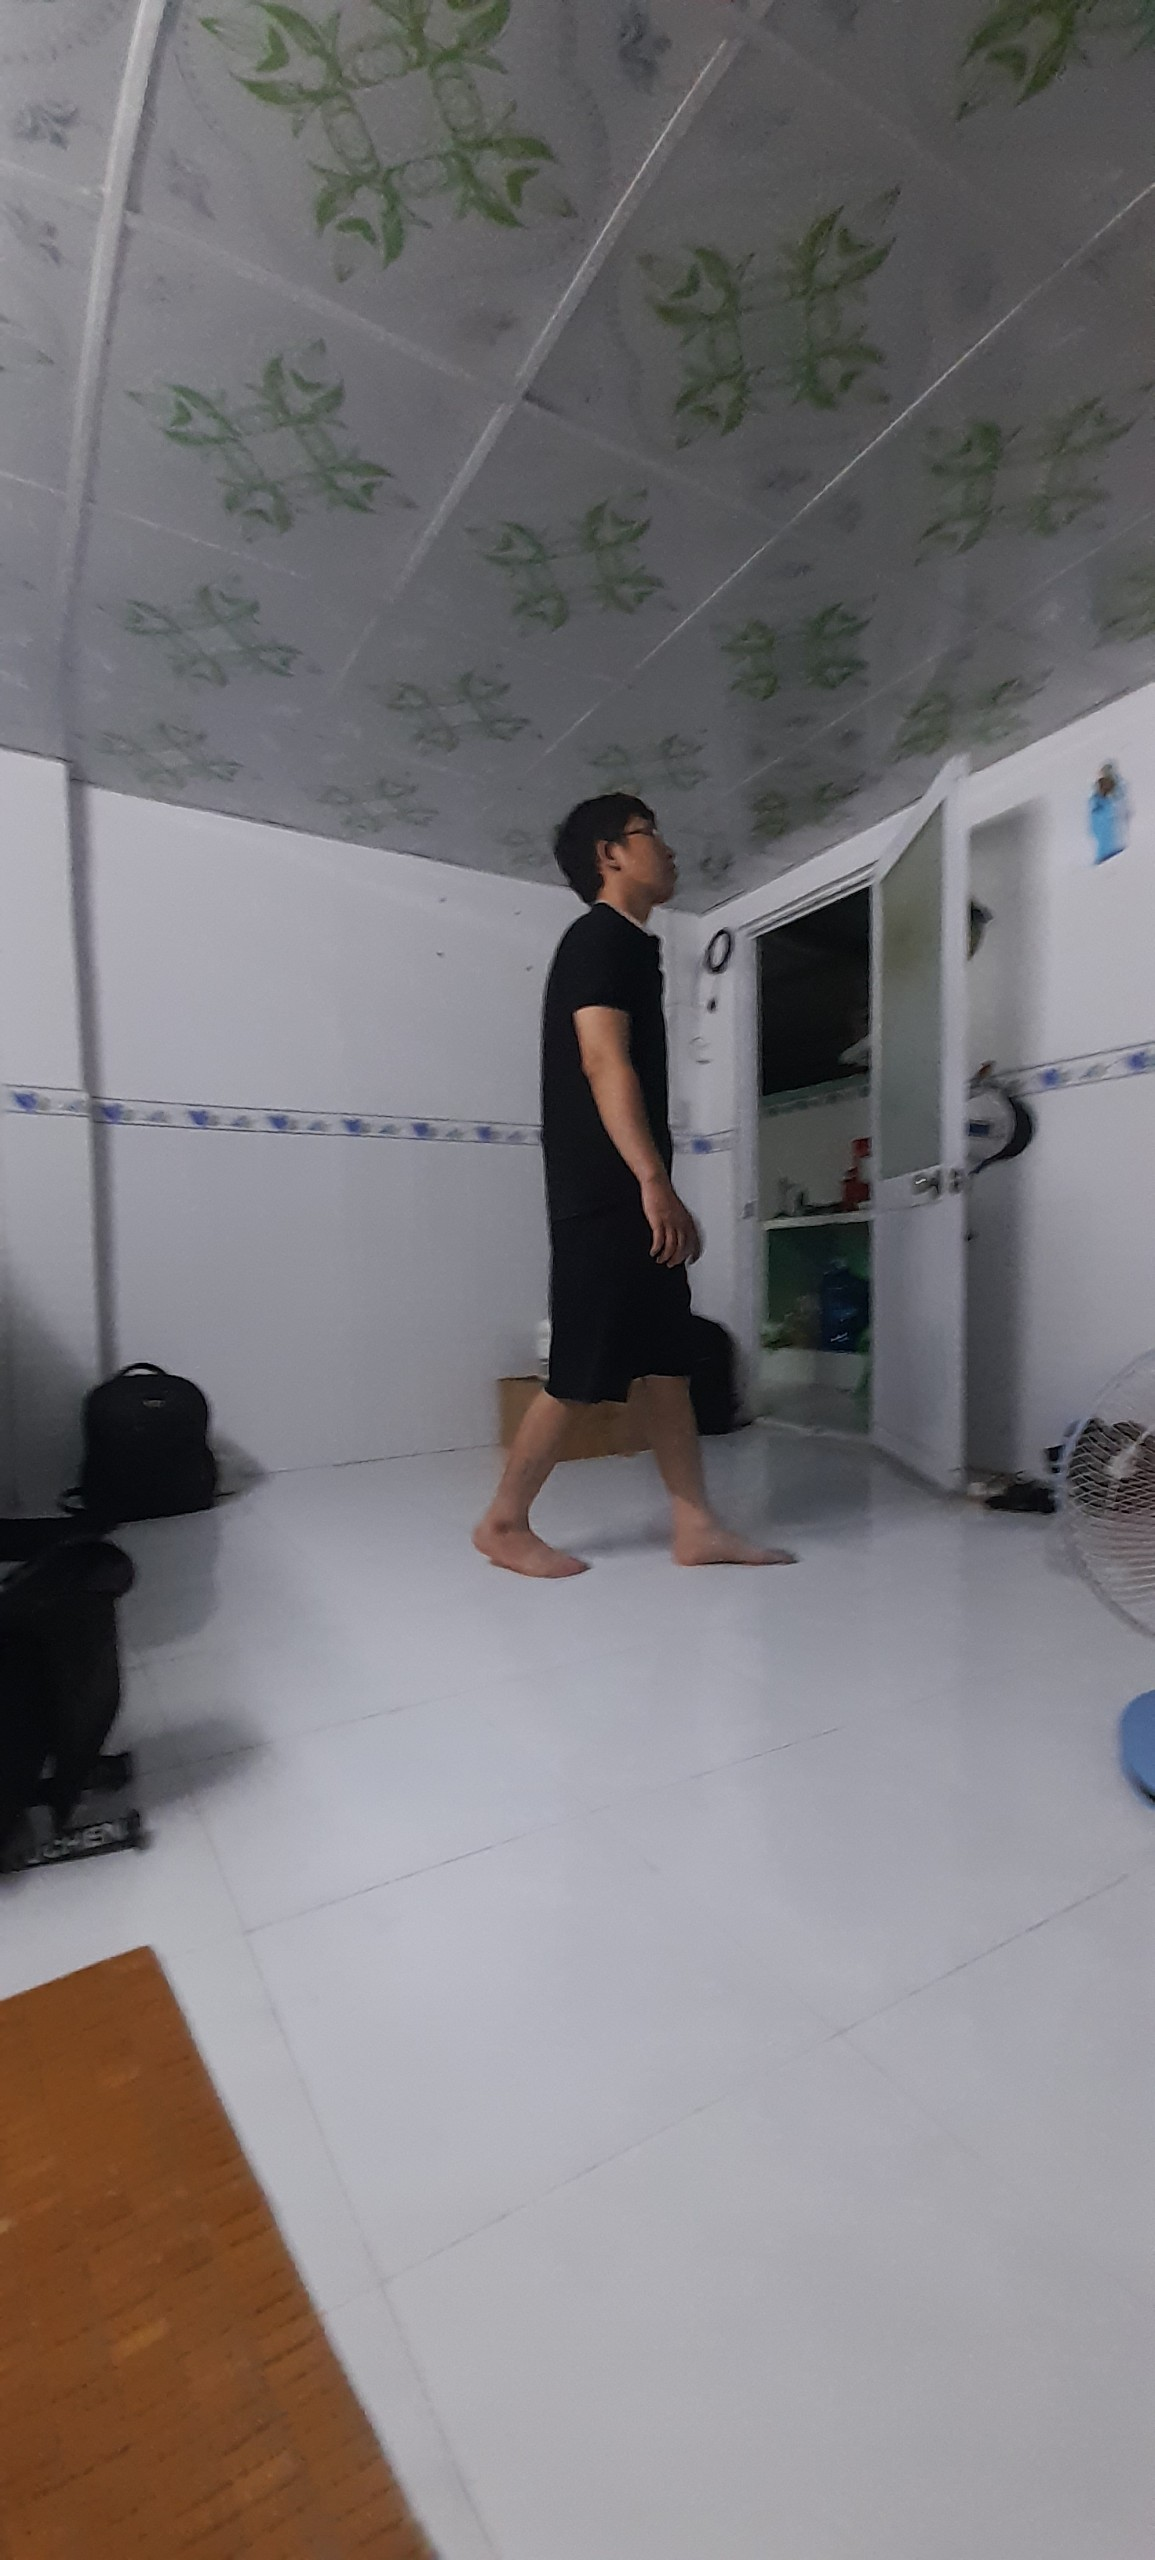person: (484, 793, 733, 1571)
